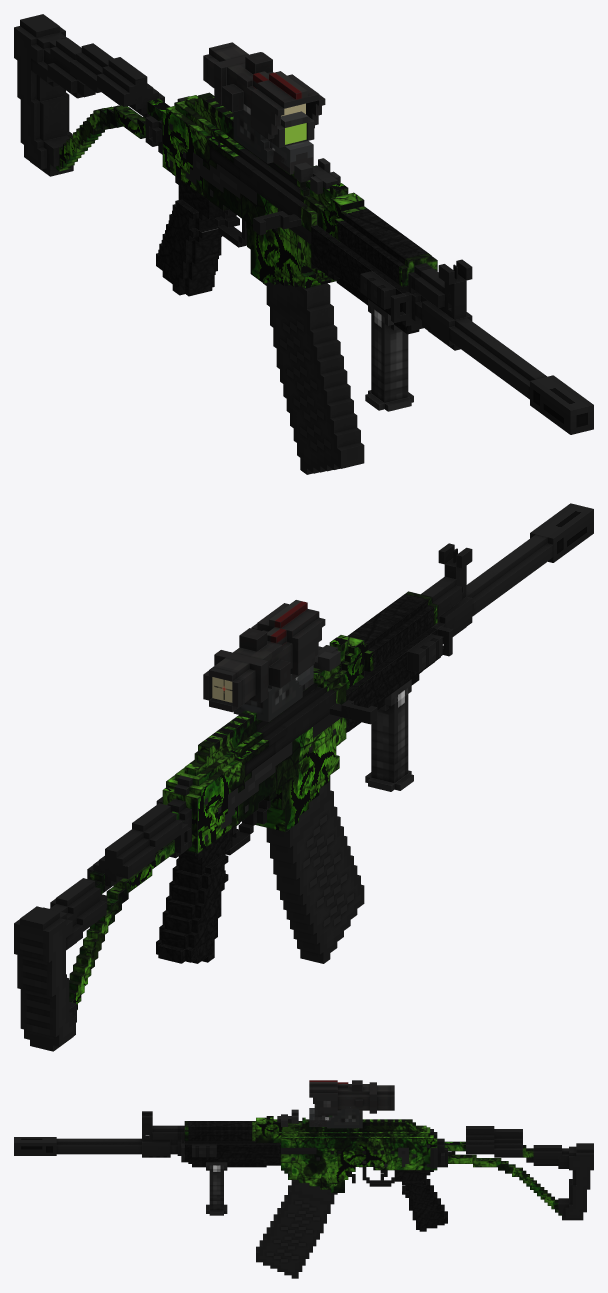
File: RD_VEPR12_ZOMBIE.glb
The picture shows the model from 3 angles, top to bottom: view 1: azimuth 30°, elevation 25°; view 2: azimuth 150°, elevation 25°; view 3: azimuth 270°, elevation 25°; orthographic projection. The views are drawn at different scales.
Parts seen in each view (by area): view 1: VEPR12, VEPR12_CLIP, SCOPE_ACOG, GRIP1, SCOPE_EOTECH, SCOPE_AIMPOINT, VEPR12_BOLT; view 2: VEPR12, VEPR12_CLIP, SCOPE_ACOG, GRIP1, SCOPE_EOTECH, VEPR12_BOLT; view 3: VEPR12, VEPR12_CLIP, SCOPE_ACOG, GRIP1, SCOPE_EOTECH.
Boxes of the visible parts, bbox=[...] form: VEPR12: bbox=[14, 14, 593, 434]; VEPR12_CLIP: bbox=[263, 282, 364, 474]; SCOPE_ACOG: bbox=[203, 42, 325, 174]; GRIP1: bbox=[365, 299, 413, 411]; SCOPE_EOTECH: bbox=[233, 104, 313, 167]; SCOPE_AIMPOINT: bbox=[267, 111, 314, 152]; VEPR12_BOLT: bbox=[253, 211, 301, 235]; VEPR12: bbox=[14, 503, 593, 1051]; VEPR12_CLIP: bbox=[266, 775, 364, 963]; SCOPE_ACOG: bbox=[203, 600, 325, 712]; GRIP1: bbox=[365, 679, 413, 791]; SCOPE_EOTECH: bbox=[233, 665, 313, 721]; VEPR12_BOLT: bbox=[329, 700, 377, 724]; VEPR12: bbox=[14, 1109, 593, 1231]; VEPR12_CLIP: bbox=[256, 1180, 337, 1278]; SCOPE_ACOG: bbox=[309, 1080, 394, 1126]; GRIP1: bbox=[206, 1162, 227, 1215]; SCOPE_EOTECH: bbox=[309, 1108, 362, 1128].
Bounding box in the file's own units: 0.1476 × 0.5905 × 1.6.
8 materials, 8 textured.
